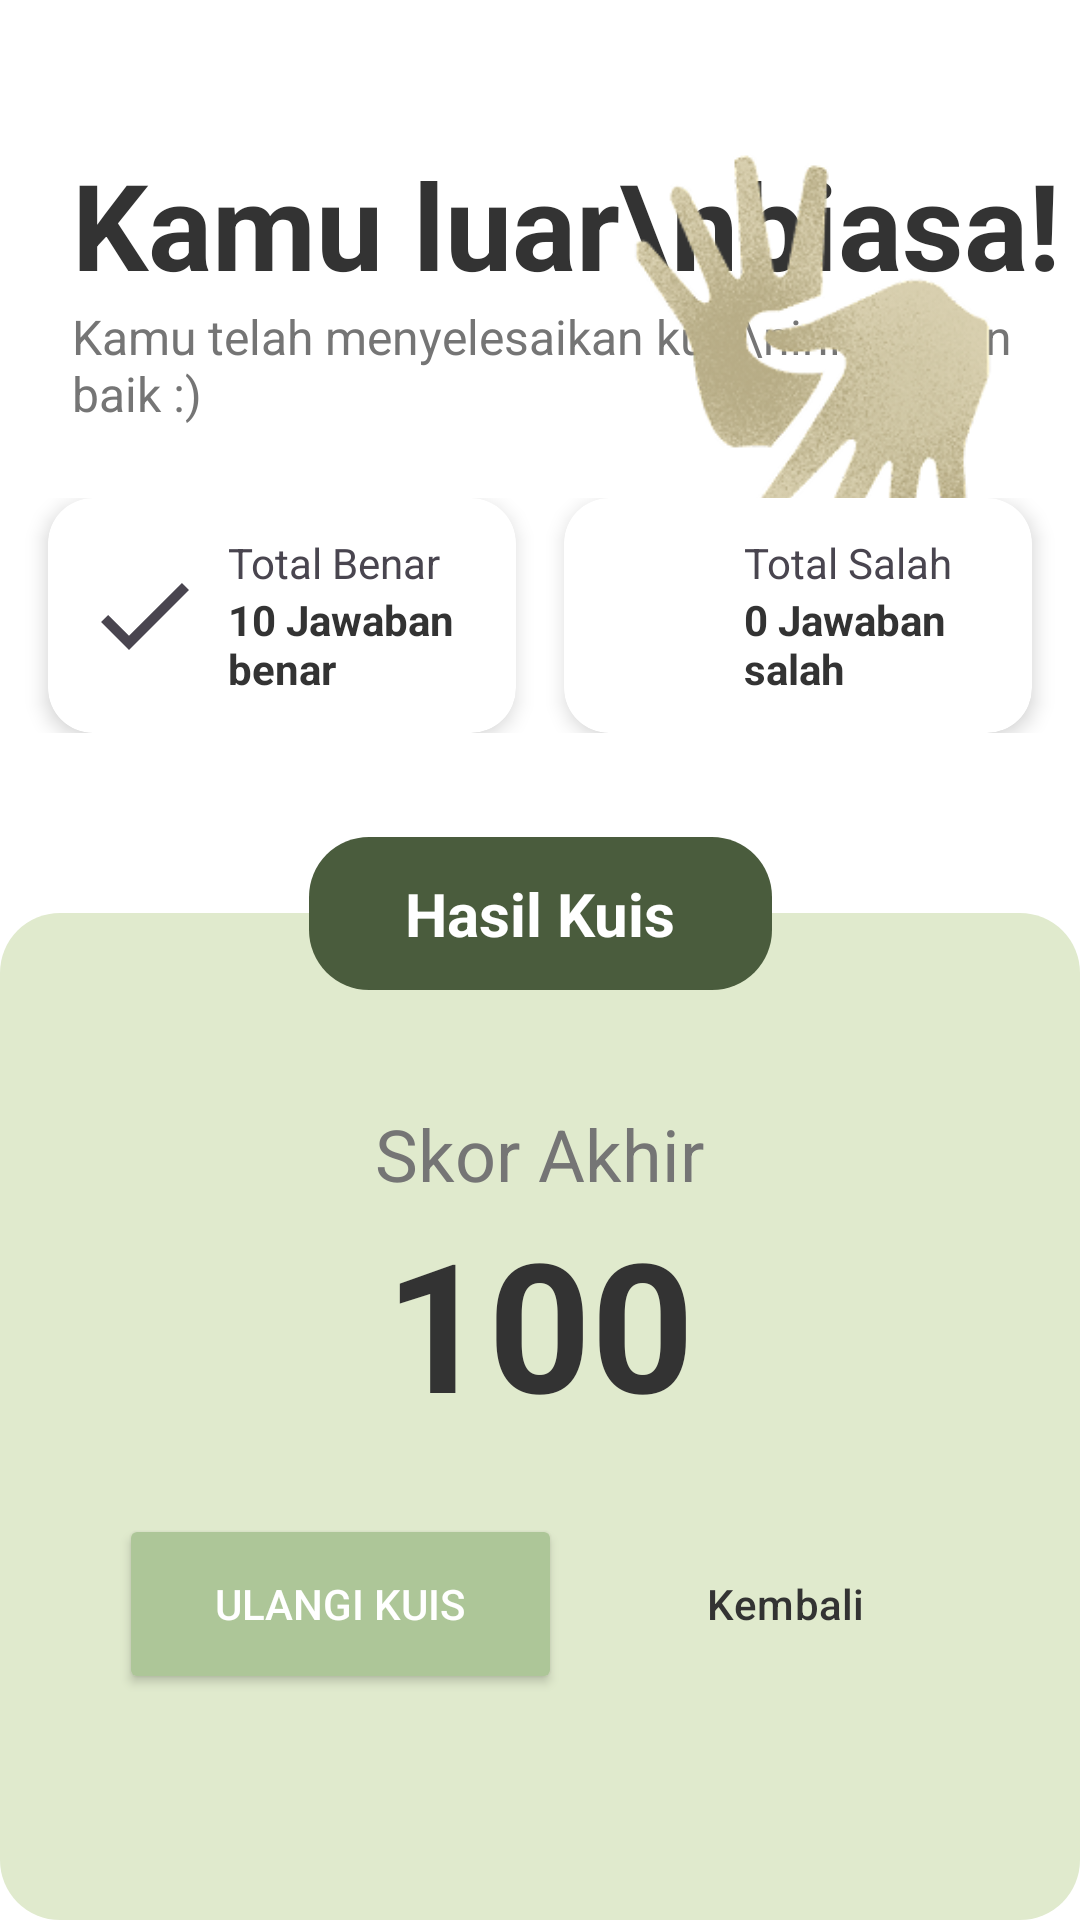

Where icons sit on this 1080×1920 app screen, as (x1, y1, x2, y2):
check correct: (101, 583, 189, 650)
